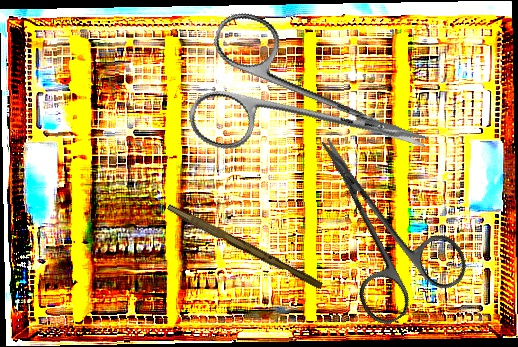Iris Scissors: (180, 5, 449, 213), (279, 108, 476, 332)
Scalpel Handle: (164, 203, 325, 291)
